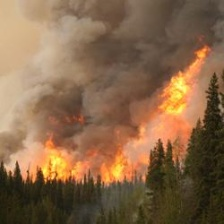fire: (36, 51, 210, 180)
smoke: (1, 2, 163, 149)
